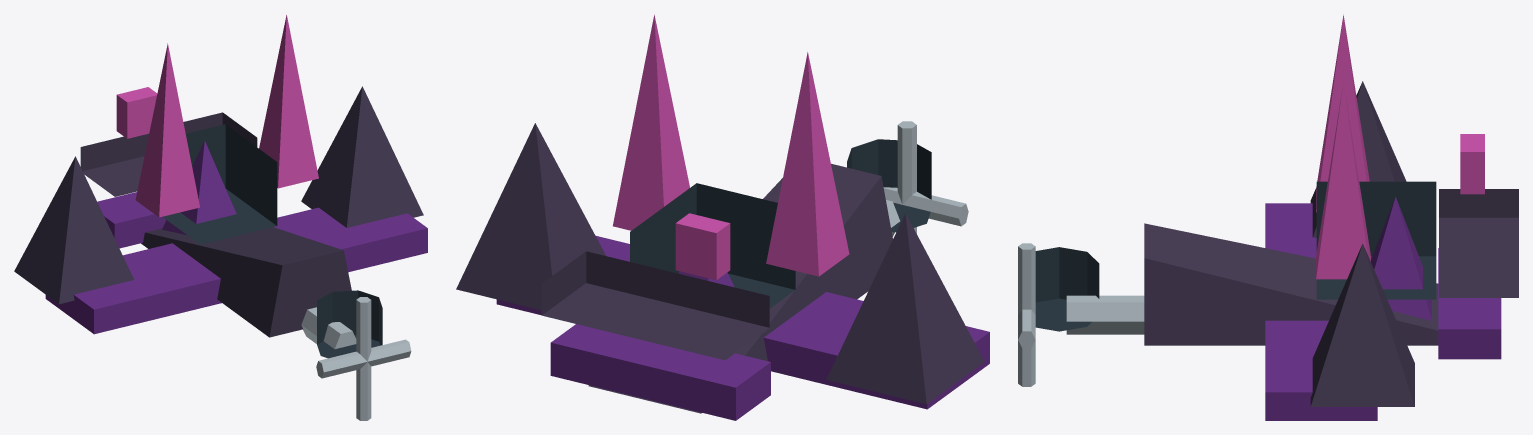
The model's file is interceptor.obj.
The picture shows the model from 3 angles, left to right: view 1: azimuth 30°, elevation 25°; view 2: azimuth 150°, elevation 25°; view 3: azimuth 270°, elevation 25°; orthographic projection. The views are drawn at different scales.
Visible parts, largest first — view 1: air; view 2: air; view 3: air.
Boxes of the visible parts, <box> form: air: <box>14,15,427,420</box>; air: <box>456,14,989,420</box>; air: <box>1018,14,1518,420</box>.
Size of the model in its own units: 1.78 by 1.35 by 1.82.
